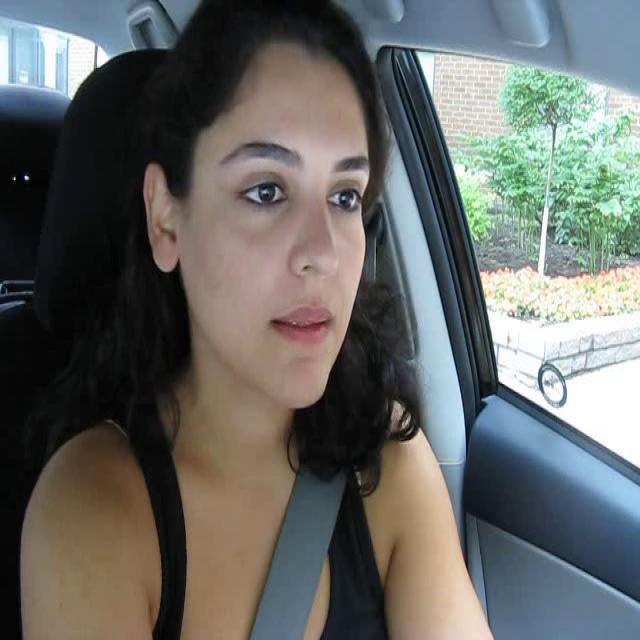close: (270, 301, 334, 345)
